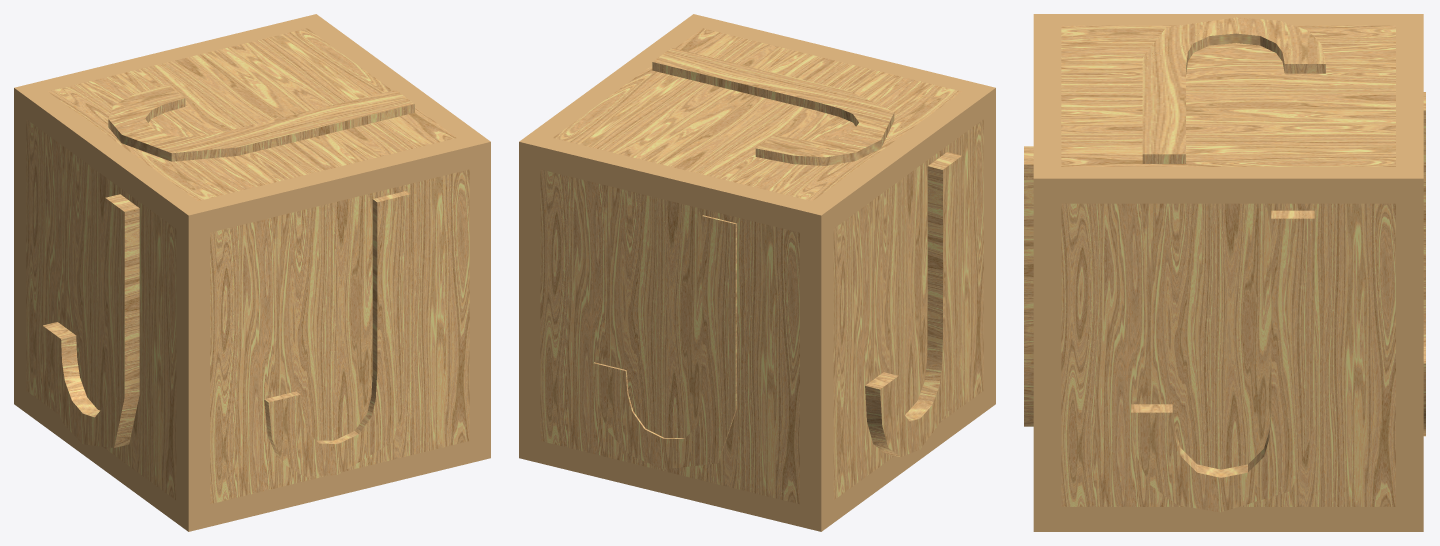
Rendered from block-j.fbx.
3 views of the same model, side by side, from view 1: azimuth 30°, elevation 25°; view 2: azimuth 150°, elevation 25°; view 3: azimuth 270°, elevation 25° (orthographic). The views are drawn at different scales.
Parts seen in each view (by area): view 1: Box, FRONT, LEFT, TOP; view 2: Box, BACK, LEFT, TOP; view 3: Box, RIGHT, TOP, FRONT, BACK.
Boxes of the visible parts, box(x1,y1,x2,y2) form: Box: box(14, 14, 490, 531); FRONT: box(264, 191, 410, 476); LEFT: box(42, 194, 139, 447); TOP: box(108, 84, 414, 161); Box: box(519, 14, 995, 531); BACK: box(593, 215, 736, 469); LEFT: box(865, 152, 962, 457); TOP: box(652, 48, 894, 165); Box: box(1033, 14, 1423, 531); RIGHT: box(1131, 210, 1314, 512); TOP: box(1142, 17, 1325, 163); FRONT: box(1024, 146, 1033, 426); BACK: box(1423, 92, 1425, 436).
Bounding box in the file's own units: 1.1 × 1.04 × 1.03.
Materials: 2 (2 with a texture image).
